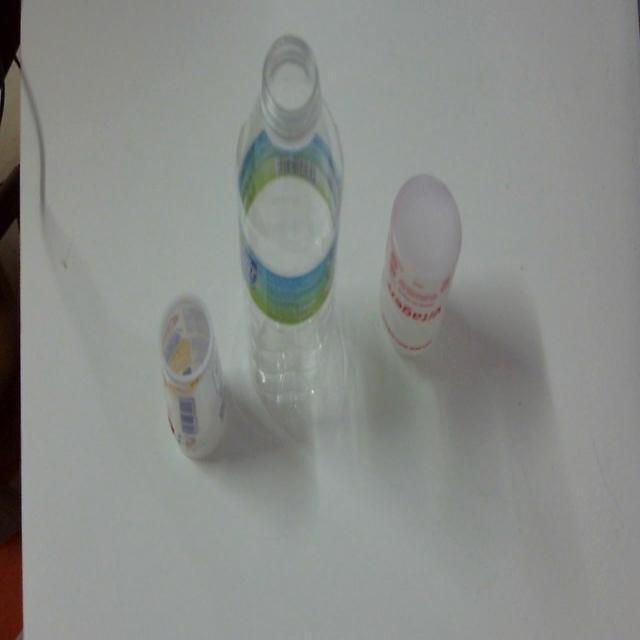plastic_standrotation: (230, 29, 350, 424), (375, 160, 465, 374), (146, 284, 238, 466)
